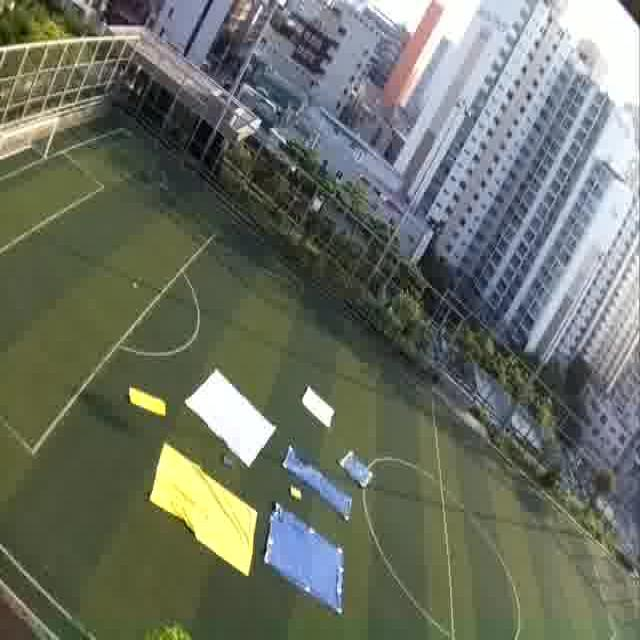danger: (270, 533, 344, 599), (283, 446, 322, 486), (339, 446, 370, 484)
safety: (196, 383, 272, 451), (301, 392, 338, 426)
warning: (158, 474, 253, 545), (126, 387, 168, 419)
